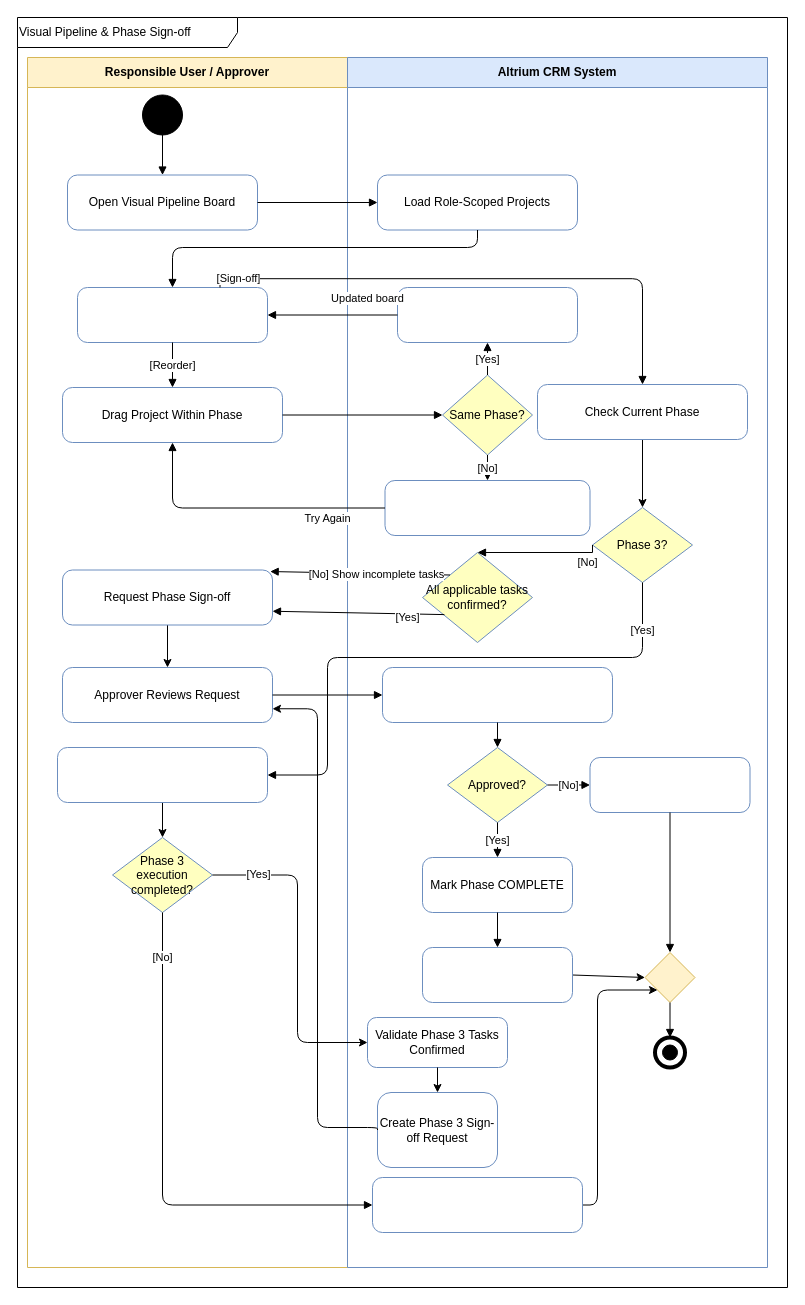
Image size: 805x1305. Some labels were removed from this diagram. The centre of each missing label's shape, as x and y in pixels:
"Advance to Next Phase" belongs at point (497, 974).
"Keep Phase 3 IN_PROGRESS" belongs at point (477, 1204).
"Keep Phase IN_PROGRESS" belongs at point (669, 784).
"Reject Movement / Revert UI" belongs at point (487, 508).
"Select Project Action" belongs at point (172, 314).
"Update board_order" belongs at point (487, 314).
"Update Phase 3 Execution Status" belongs at point (162, 774).
"Validate requester / approver rule" belongs at point (497, 694).
